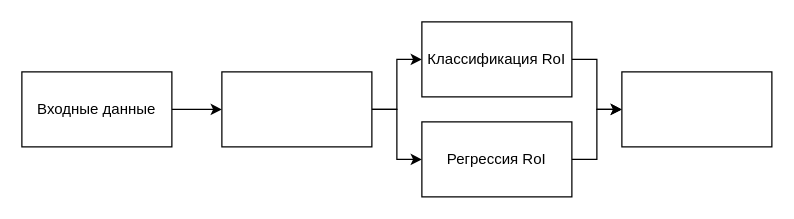
Image size: 794x219. Some labels were removed from this diagram. Each missing label, with the box of its shape:
Выходные данные: (621, 71, 772, 147)
Поиск RoI: (221, 71, 372, 147)
